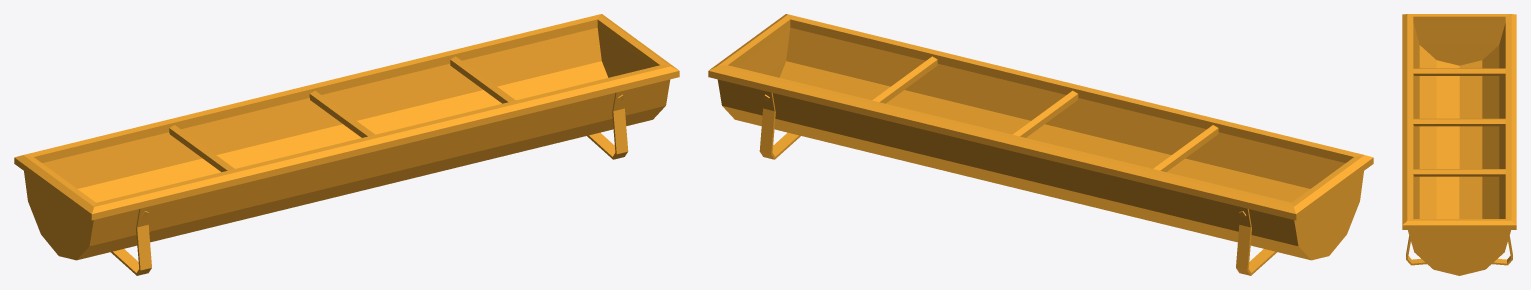
File: SM_Trough_A.fbx
3 renders of one model, left to right at view 1: azimuth 30°, elevation 25°; view 2: azimuth 150°, elevation 25°; view 3: azimuth 270°, elevation 25°, orthographic. The views are drawn at different scales.
Visible parts, largest first — view 1: trough-a; view 2: trough-a; view 3: trough-a.
Part boxes in pixels (<box>): trough-a: <box>14,14,679,275</box>; trough-a: <box>708,14,1373,275</box>; trough-a: <box>1402,14,1516,275</box>.
Bounding box in the file's own units: 2 × 0.2664 × 0.457.
